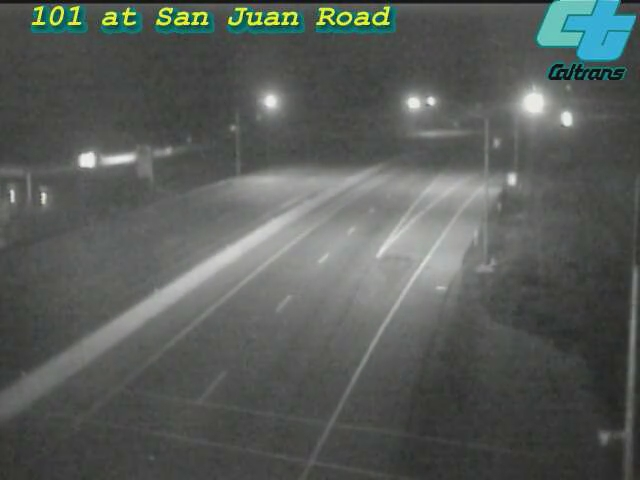vehicle: (541, 96, 591, 146), (506, 78, 556, 128)
